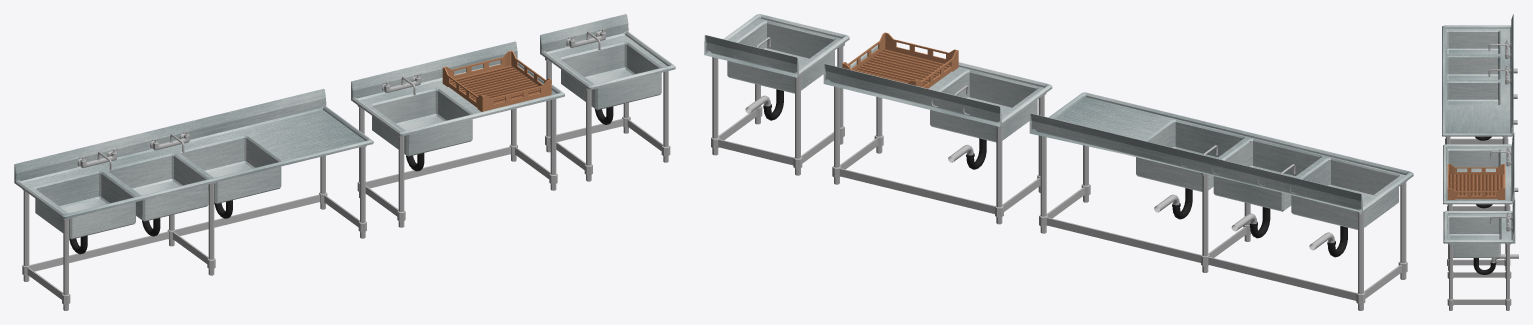
Rendered from Sinks.gltf.
3 views of the same model, side by side, from view 1: azimuth 30°, elevation 25°; view 2: azimuth 150°, elevation 25°; view 3: azimuth 270°, elevation 25° (orthographic). The views are drawn at different scales.
Visible parts, largest first — view 1: Sink_triple, Sink_single, Sink_handwash, Stackable_crate; view 2: Sink_triple, Sink_single, Sink_handwash, Stackable_crate; view 3: Sink_triple, Sink_handwash, Sink_single, Stackable_crate.
Boxes of the visible parts, box(x1,y1,x2,y2) form: Sink_triple: box(14, 88, 373, 310); Sink_single: box(351, 41, 564, 227); Sink_handwash: box(540, 14, 675, 181); Stackable_crate: box(442, 50, 551, 111); Sink_triple: box(1029, 92, 1413, 310); Sink_single: box(823, 44, 1052, 224); Sink_handwash: box(704, 14, 849, 175); Stackable_crate: box(842, 32, 958, 88); Sink_triple: box(1442, 14, 1517, 144); Sink_handwash: box(1443, 199, 1518, 310); Sink_single: box(1443, 132, 1518, 270); Stackable_crate: box(1447, 164, 1505, 199).
Size of the model in its own units: 7.78 by 1.38 by 1.17.
6 materials, 3 textured.
